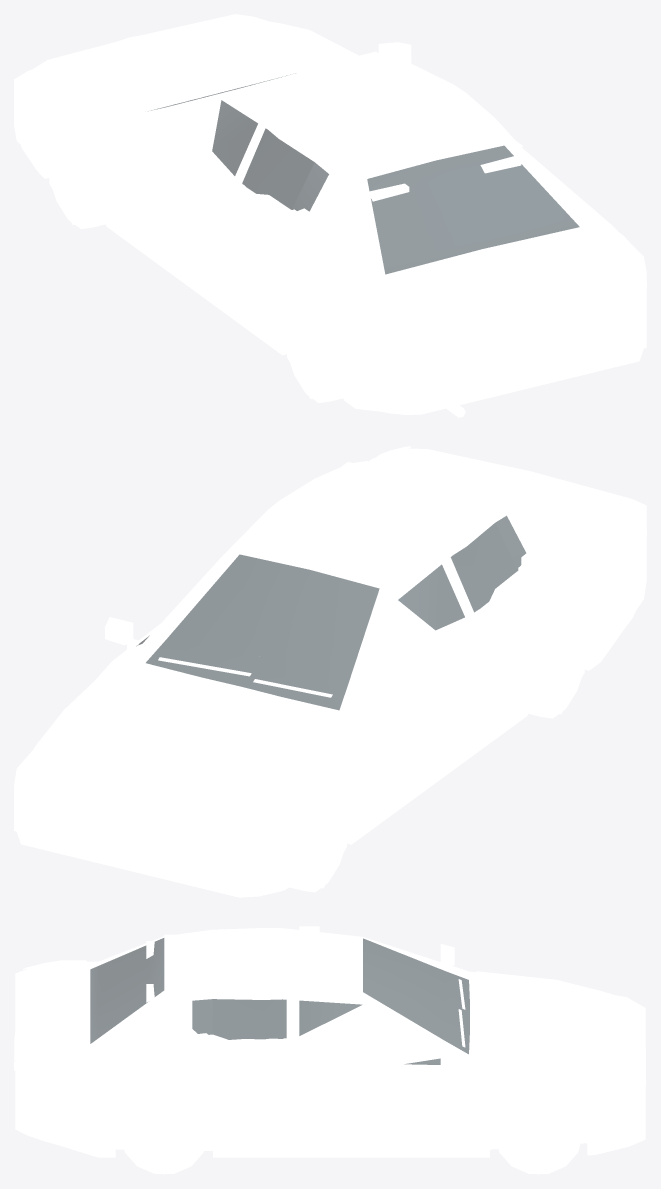
The model's file is car_taxi.glb.
3 renders of one model, top to bottom at view 1: azimuth 30°, elevation 25°; view 2: azimuth 150°, elevation 25°; view 3: azimuth 270°, elevation 25°, orthographic. The views are drawn at different scales.
Visible parts, largest first — view 1: car_taxi, car_taxi_lodfar; view 2: car_taxi, car_taxi_lodfar; view 3: car_taxi_lodfar, car_taxi.
Boxes of the visible parts, left/top/right/bottom form: car_taxi: left=14, top=14, right=646, bottom=417; car_taxi_lodfar: left=14, top=24, right=646, bottom=404; car_taxi: left=14, top=446, right=646, bottom=897; car_taxi_lodfar: left=14, top=448, right=646, bottom=888; car_taxi_lodfar: left=15, top=937, right=645, bottom=1174; car_taxi: left=14, top=926, right=645, bottom=1173.
Bounding box in the file's own units: 2.16 × 1.61 × 4.97.
